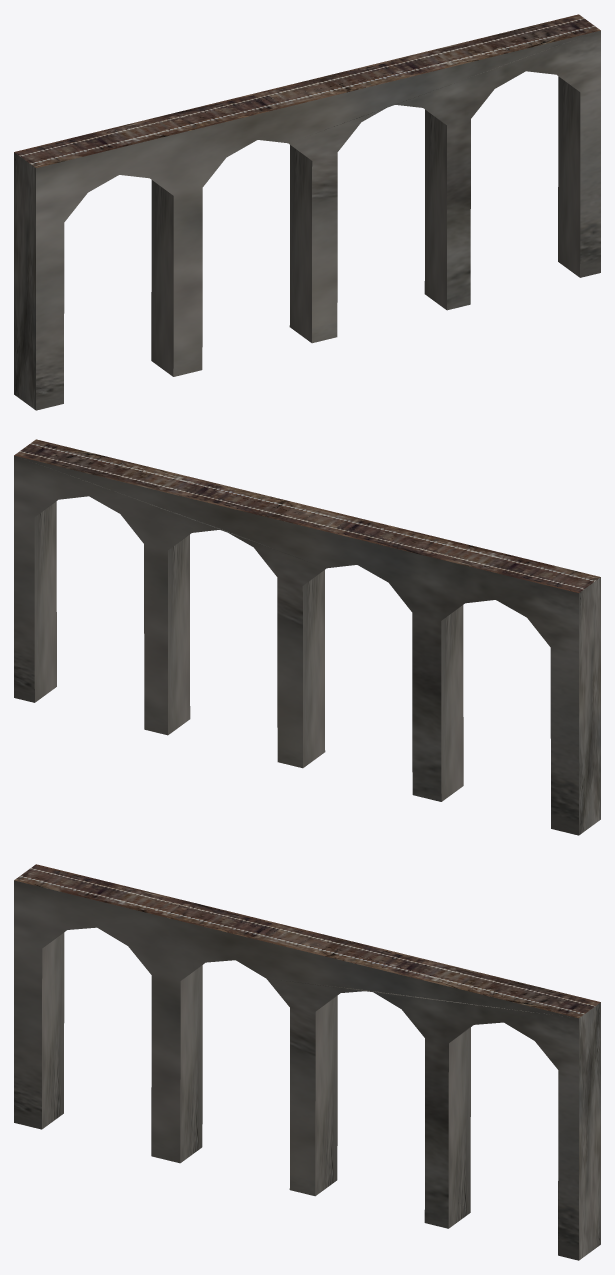
The model's file is viaduct.gltf.
The picture shows the model from 3 angles, top to bottom: view 1: azimuth 30°, elevation 25°; view 2: azimuth 150°, elevation 25°; view 3: azimuth 330°, elevation 25°; orthographic projection.
Visible parts, largest first — view 1: viaduct_atomic0; view 2: viaduct_atomic0; view 3: viaduct_atomic0.
Part boxes in pixels (x1,y1,x2,y2): viaduct_atomic0: [14, 14, 600, 410]; viaduct_atomic0: [14, 439, 600, 835]; viaduct_atomic0: [14, 864, 600, 1260].
Size of the model in its own units: 227 by 93.22 by 15.39.
Materials: 2 (2 with a texture image).
